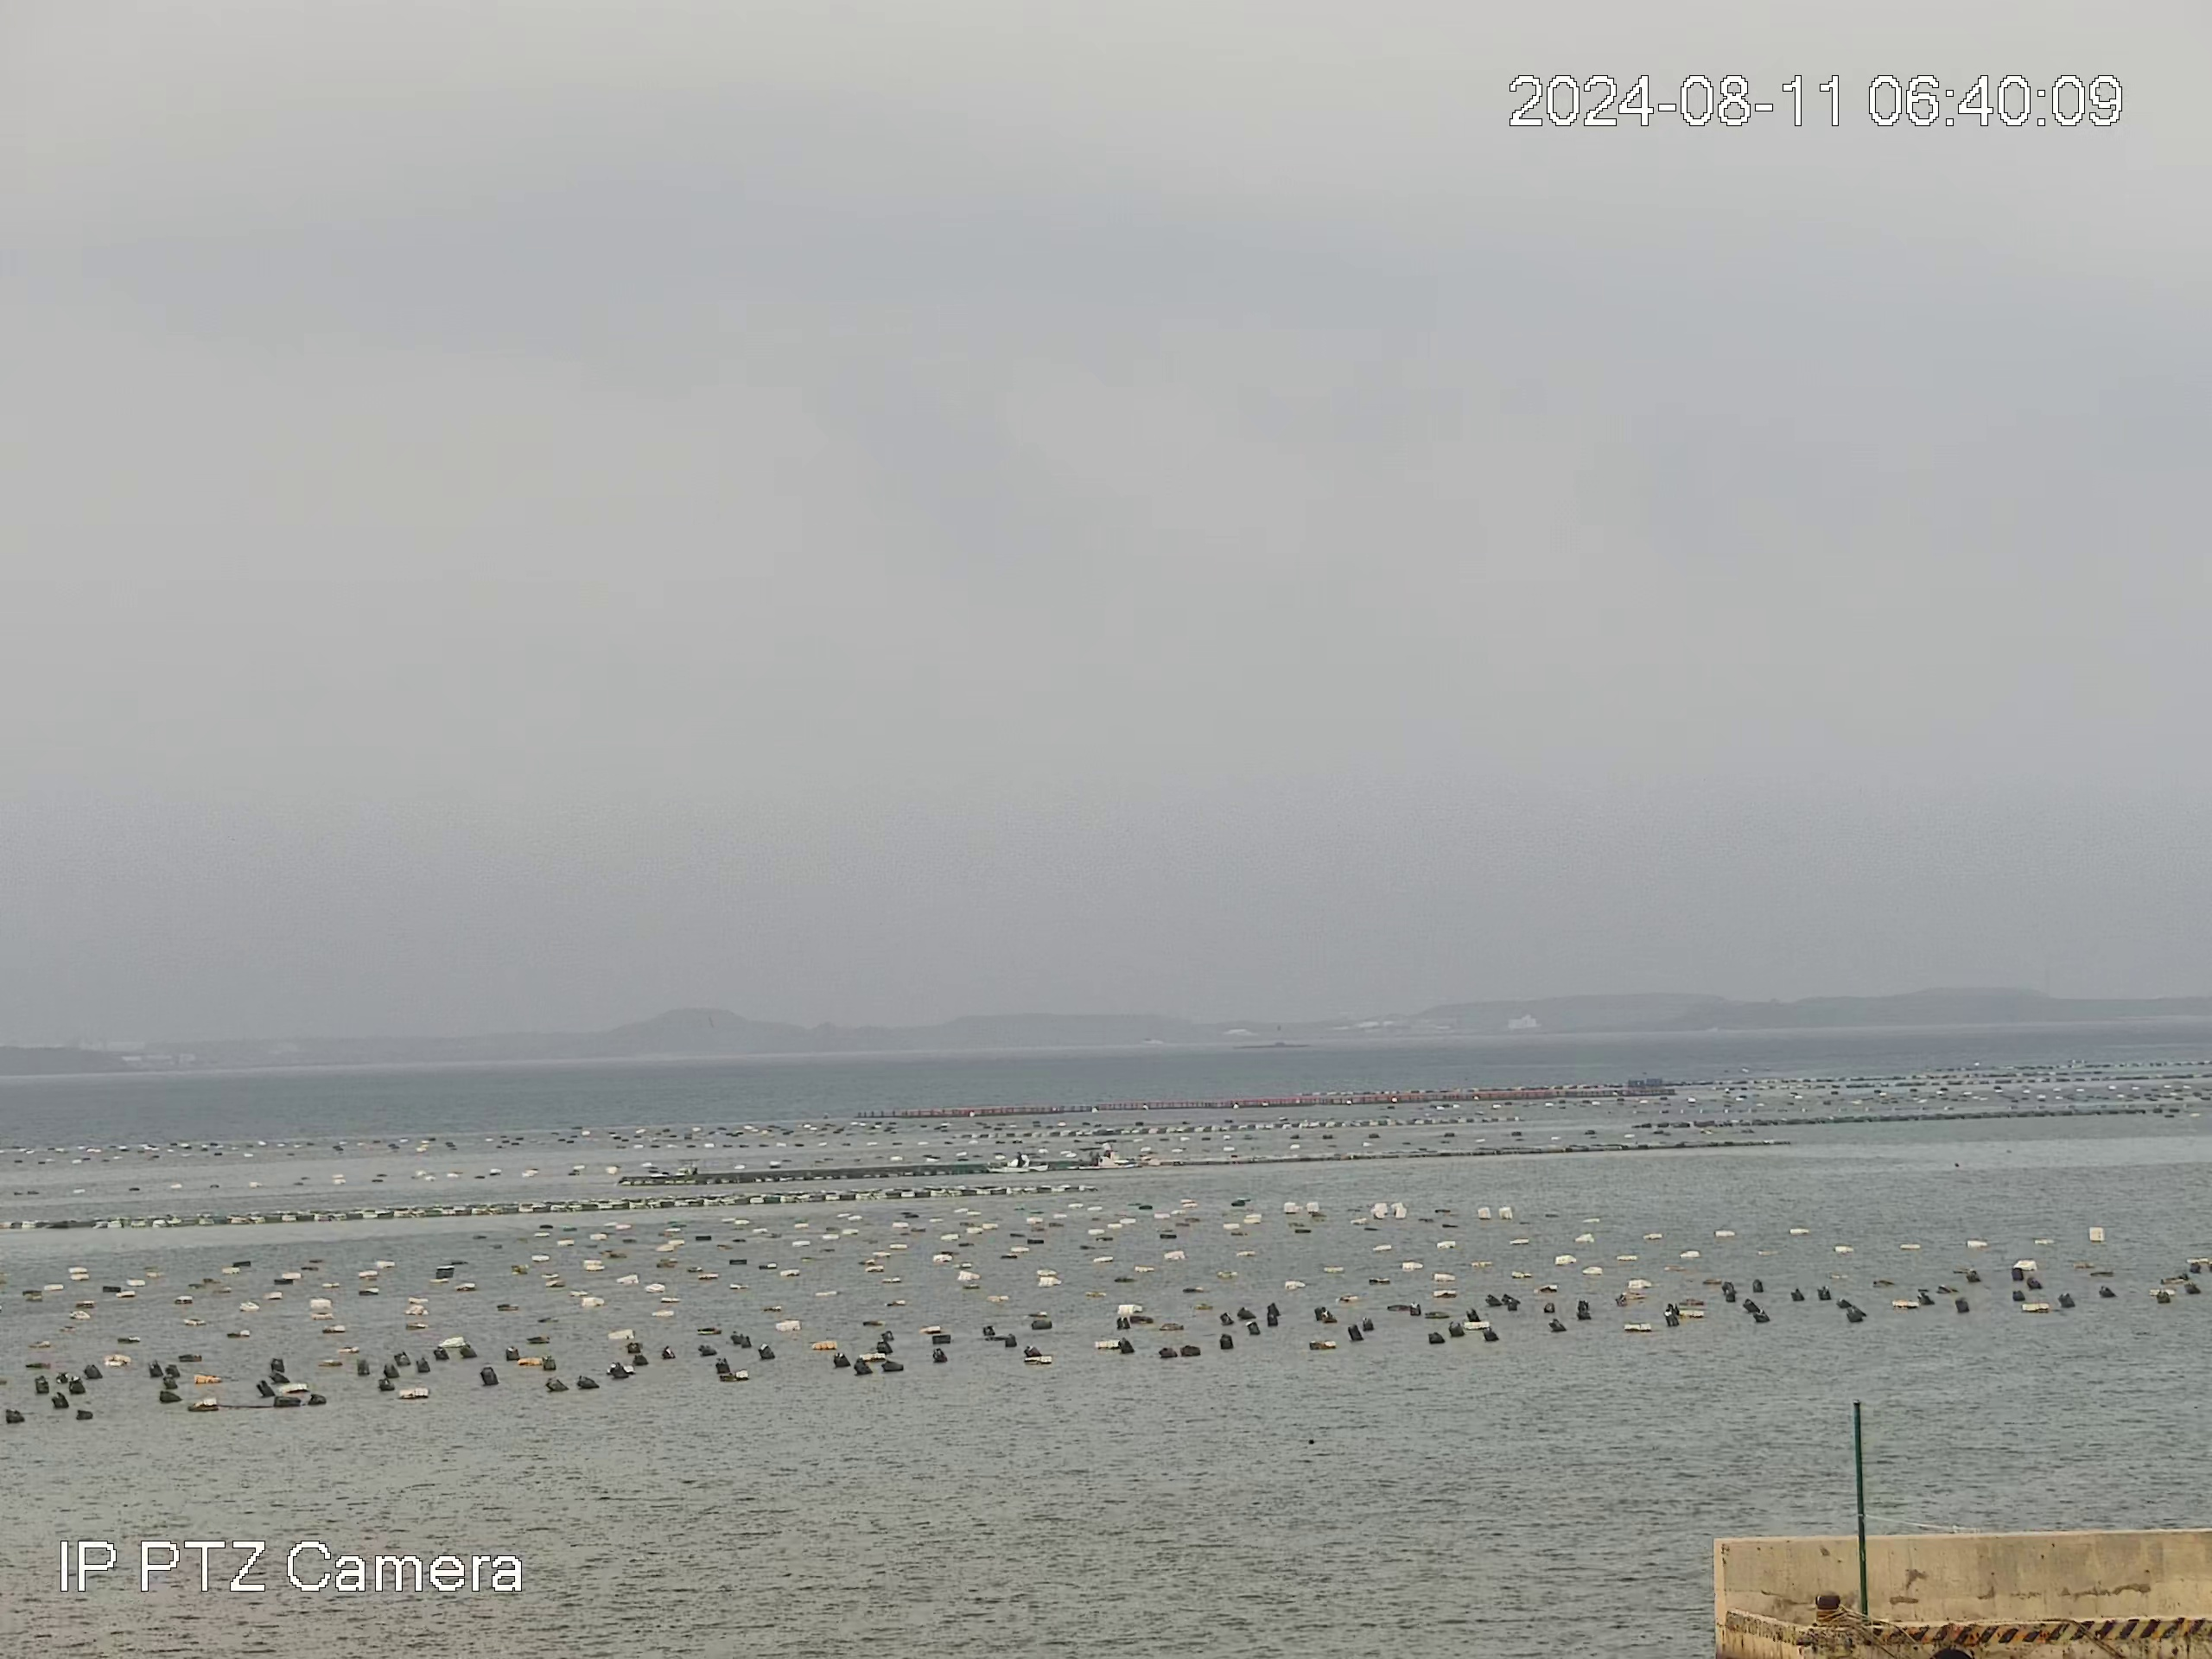boat: (1066, 1145, 1120, 1171), (984, 1154, 1050, 1175)
